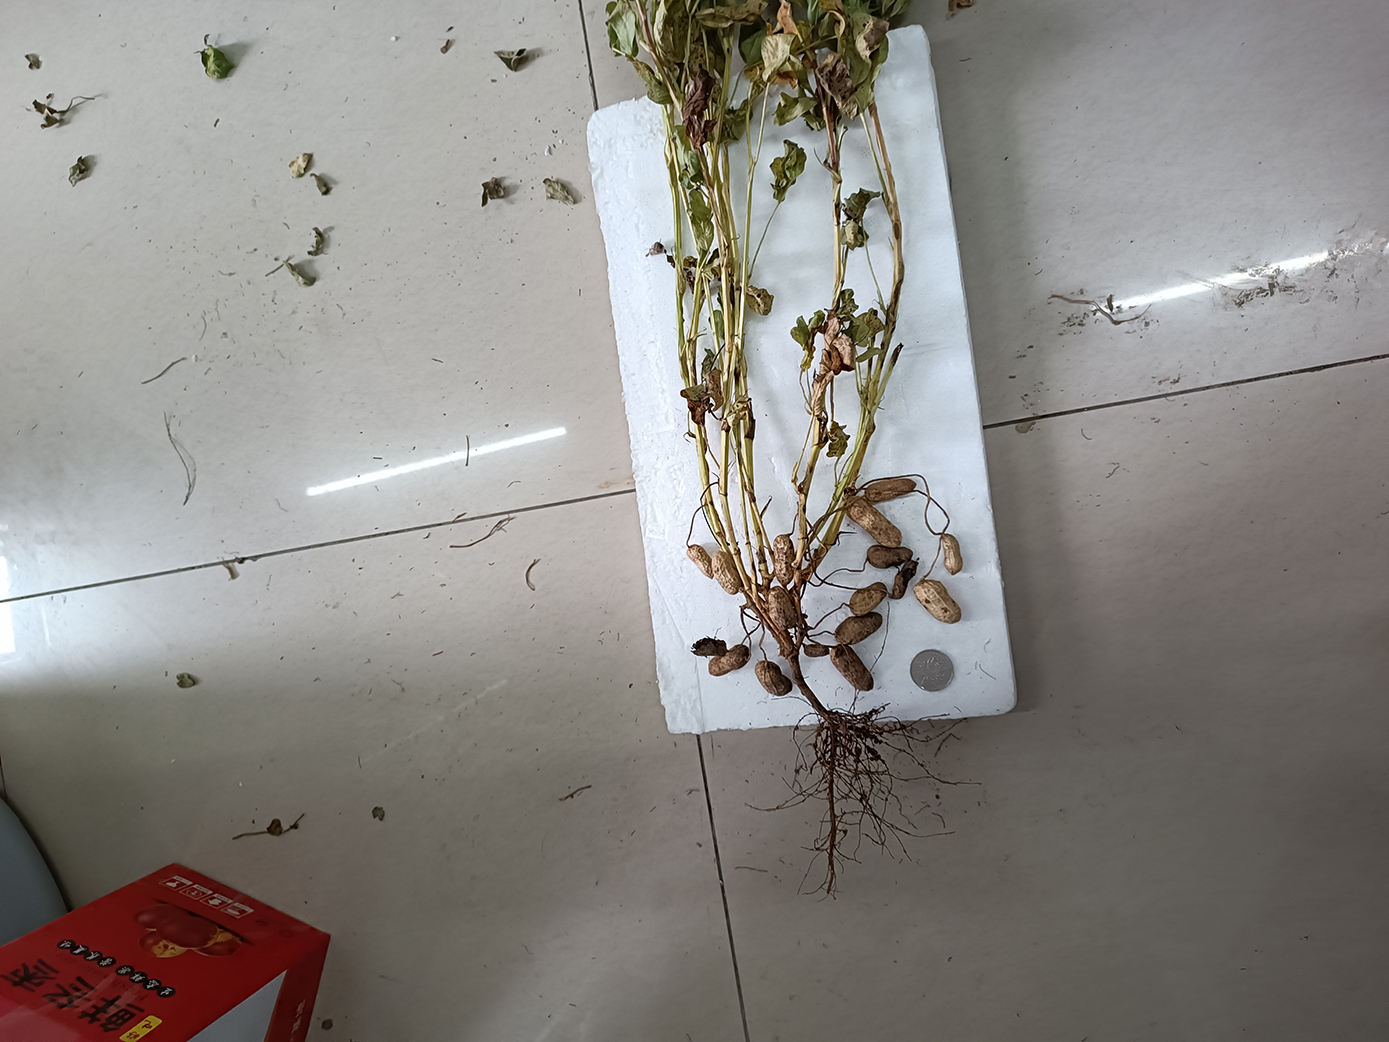h: (845, 495, 902, 548), (911, 579, 962, 624), (755, 660, 792, 697), (711, 549, 741, 595), (849, 582, 887, 616), (768, 584, 795, 627), (686, 544, 714, 579), (941, 533, 963, 575)
l: (830, 645, 873, 692), (834, 612, 883, 646), (708, 644, 751, 678), (864, 478, 917, 502), (891, 557, 921, 600), (867, 545, 913, 569), (772, 534, 794, 584), (690, 636, 727, 657), (803, 642, 830, 658)
